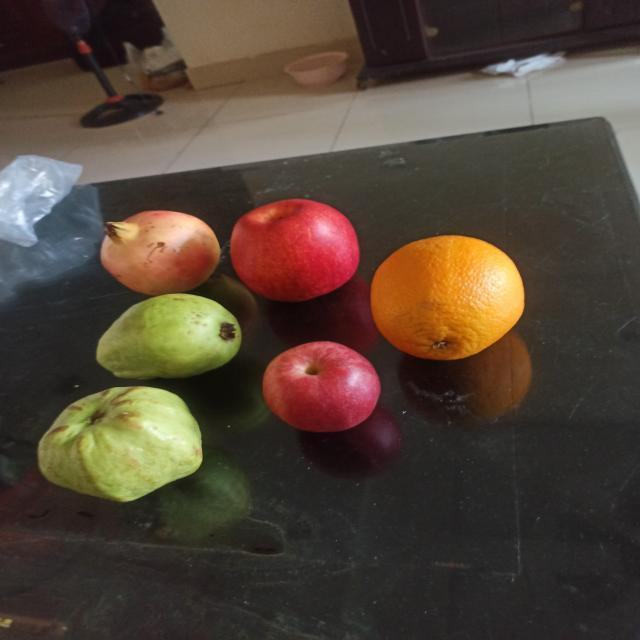apple: (229, 198, 361, 302), (263, 340, 382, 432)
